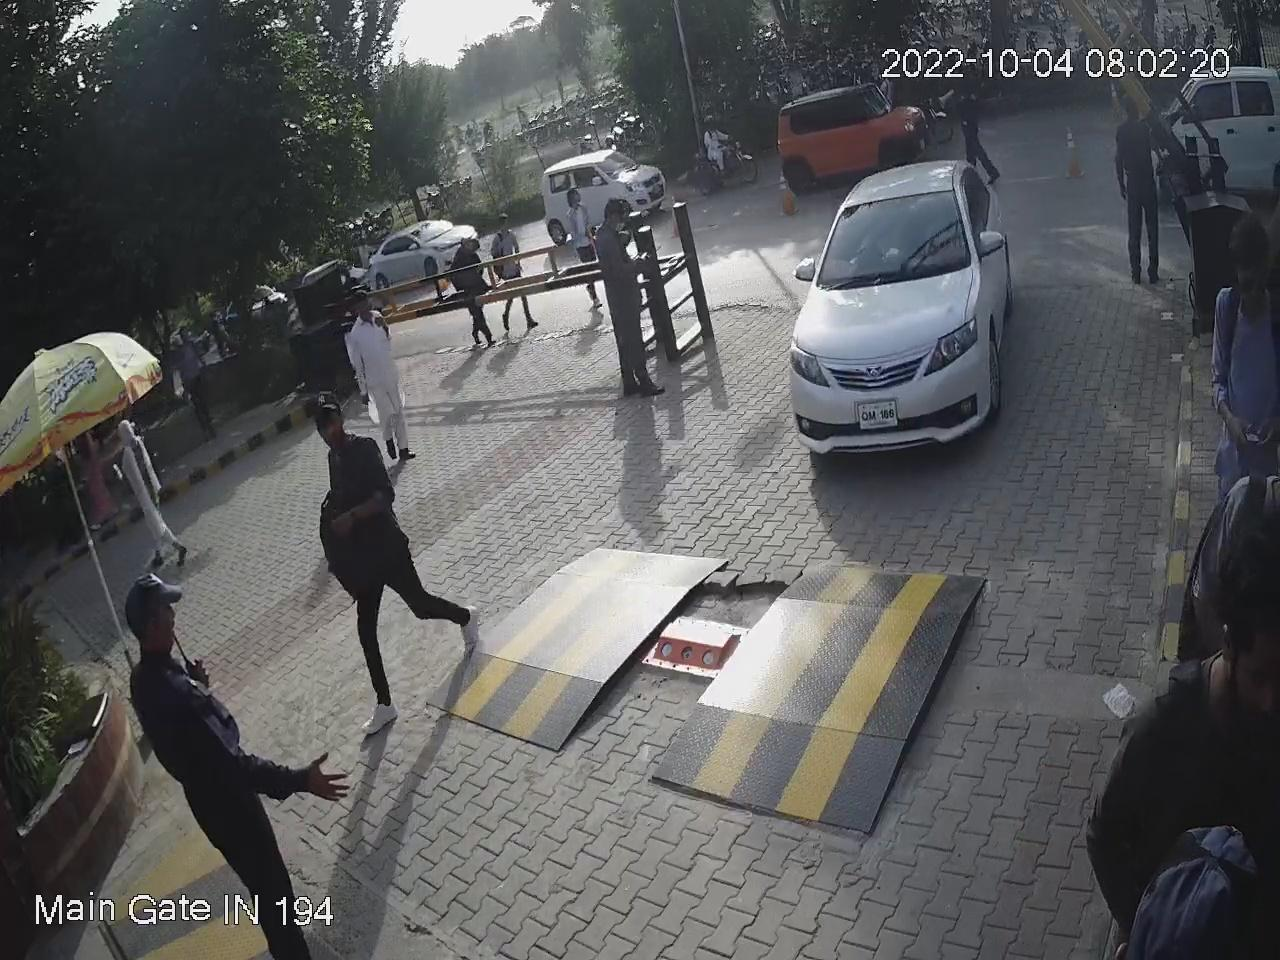windshield: (808, 177, 976, 287)
